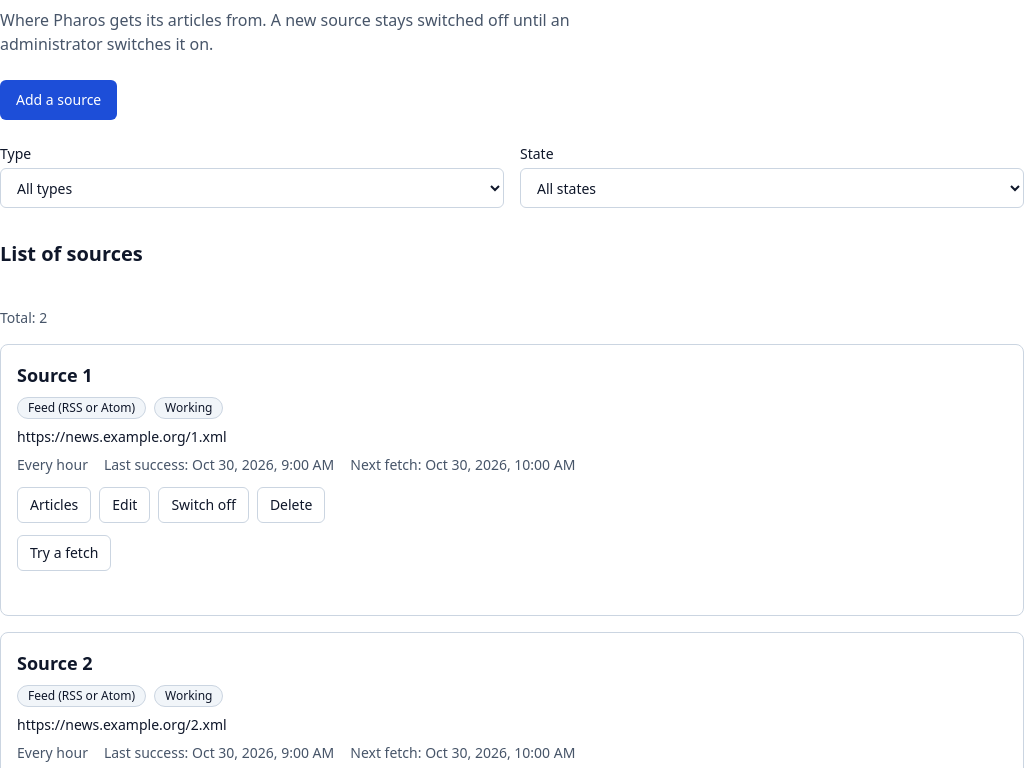
Test: adding › sends a new source and shows the first page
The image size is (1024, 768).
Click the button "Add a source" at (59, 100), box [0,80,117,120]
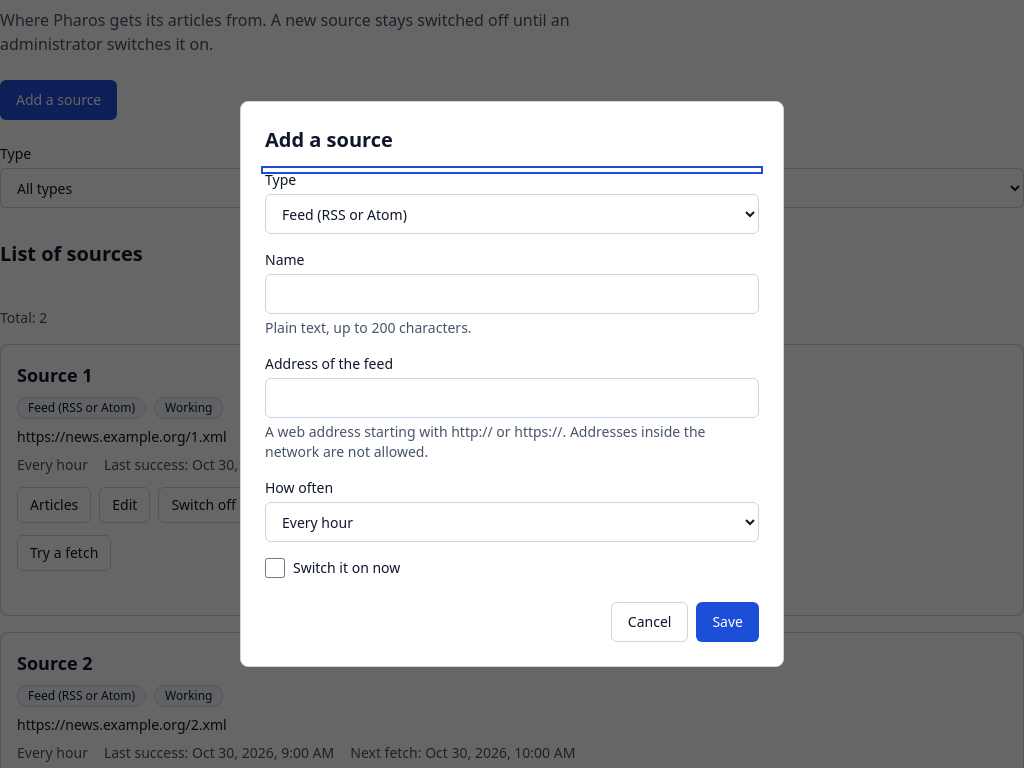
Type "Fresh" into the field labelled "Name" at (512, 294), box [265,274,759,314]
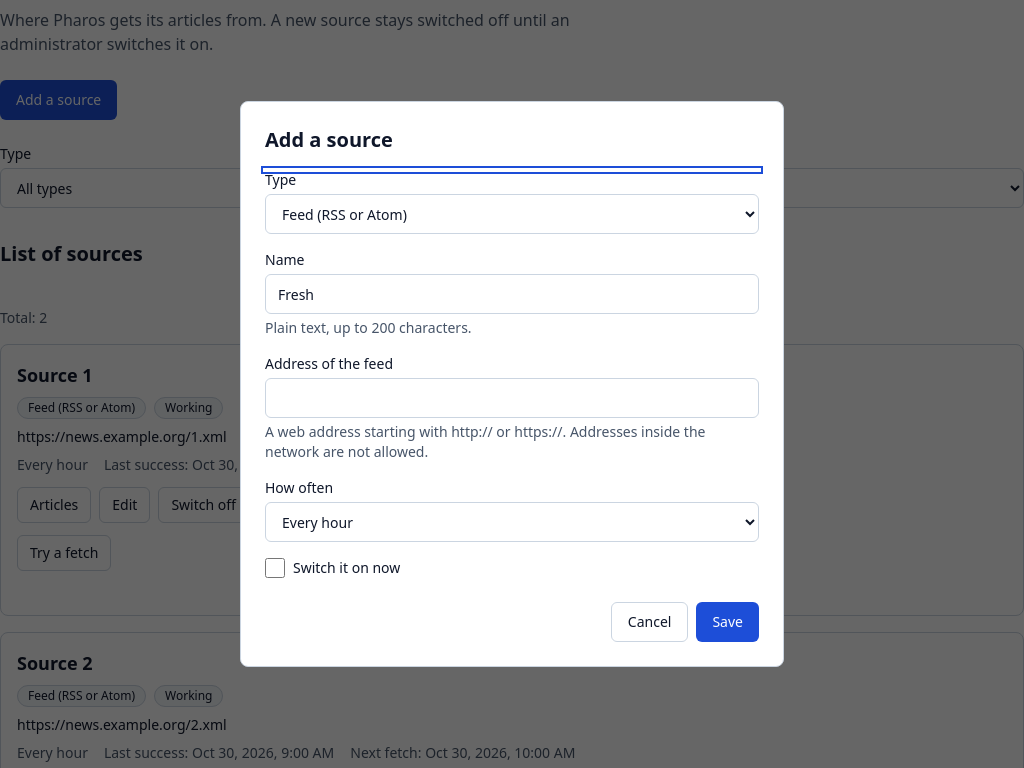
Type "https://fresh.example.org/feed.xml" into the field labelled "Address of the feed" at (512, 398), box [265,378,759,418]
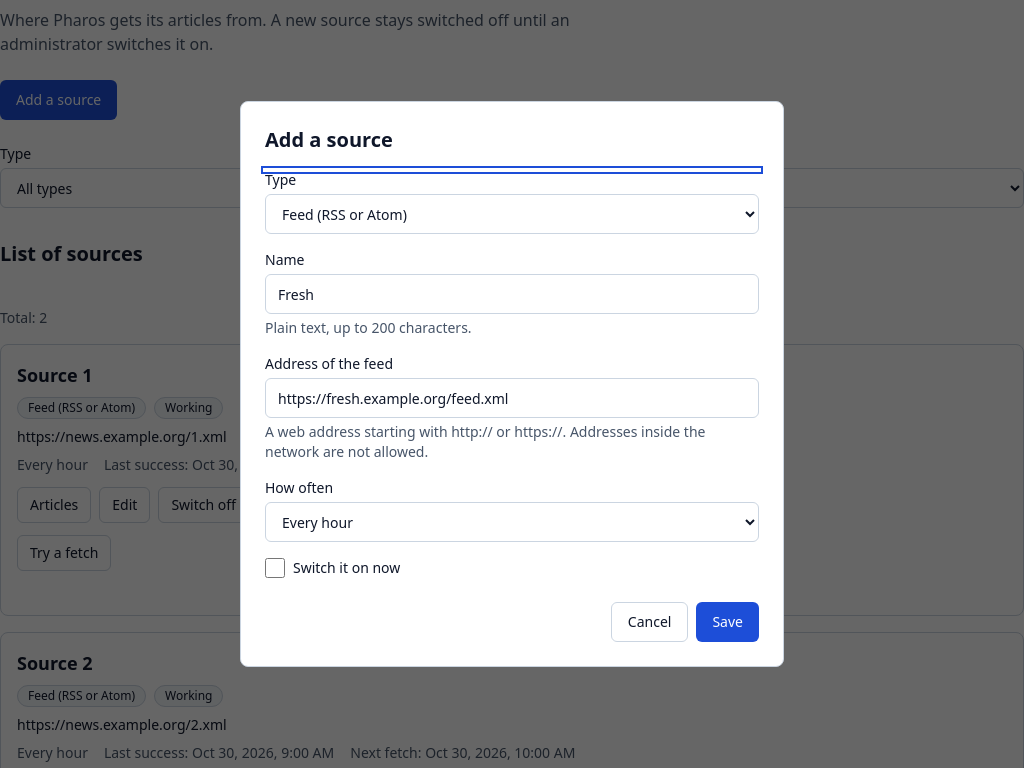
Click the button "Save" at (728, 622), box [696,602,759,642]
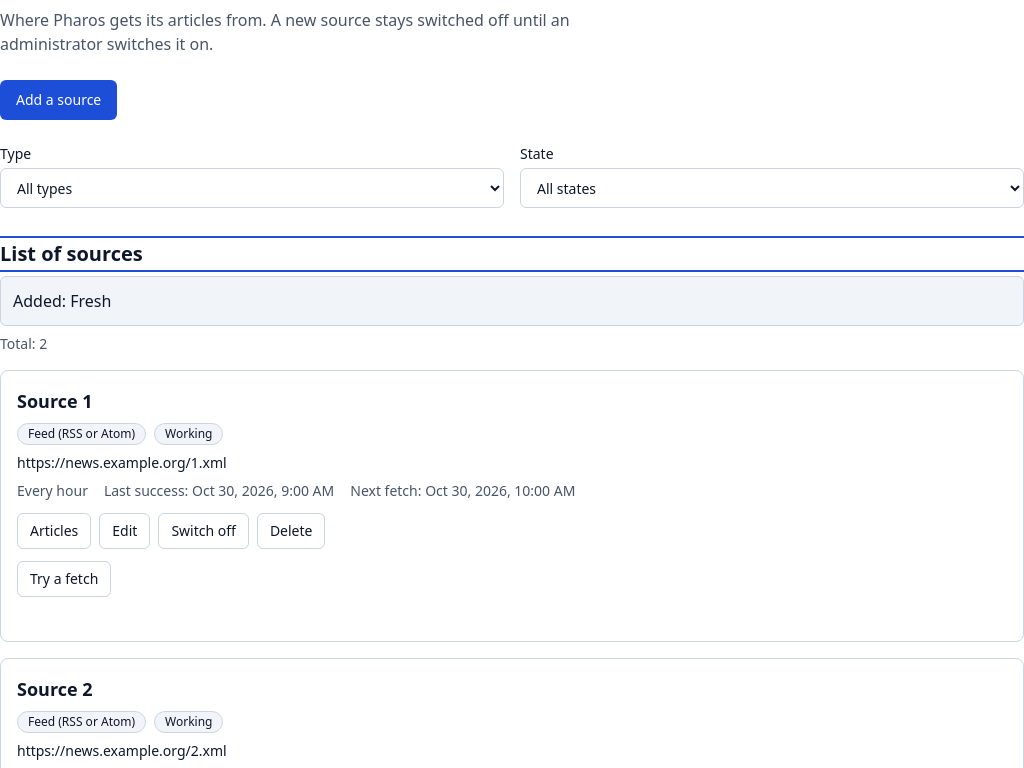
Check: the message "Added: Fresh" is shown, box [0,276,1023,326]
Check: the dialog is gone
